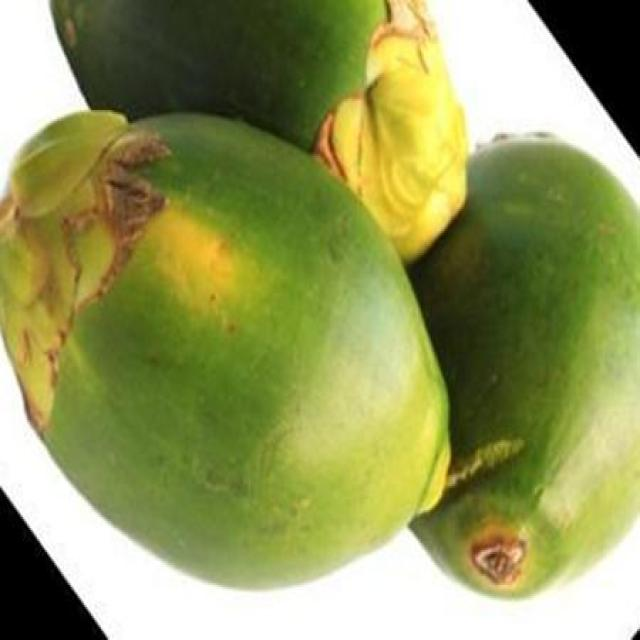good: (0, 110, 452, 594), (404, 138, 639, 601)
